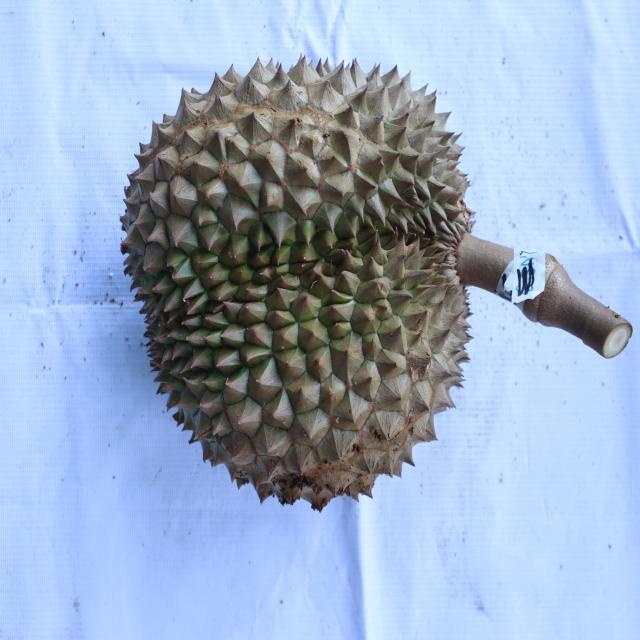mature: (117, 52, 475, 518)
